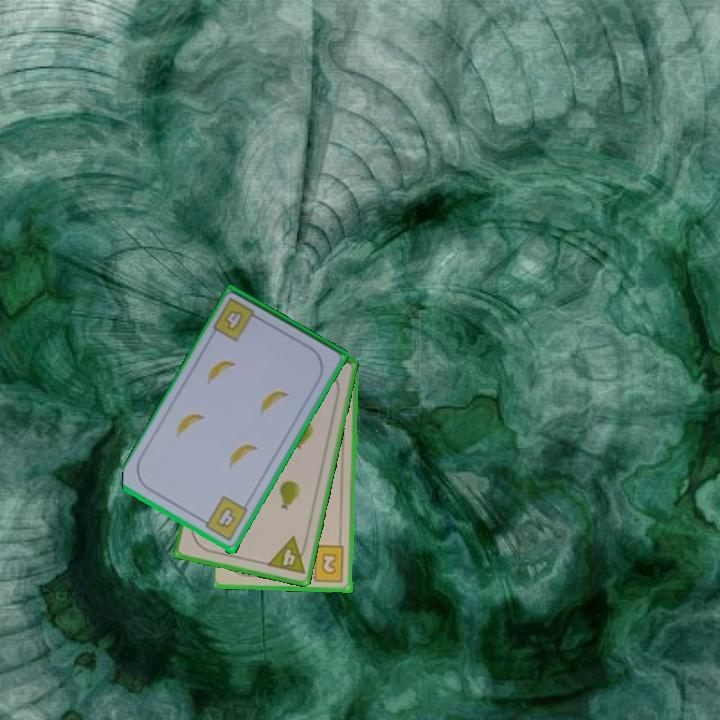2b: (304, 543, 347, 585)
4b: (197, 493, 251, 544), (221, 307, 244, 334)
4p: (263, 533, 311, 577)
